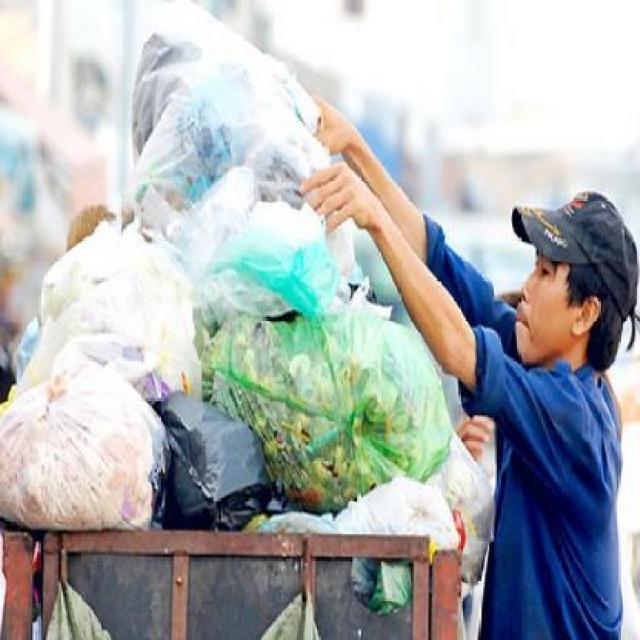plastic bag: (0, 32, 408, 552)
